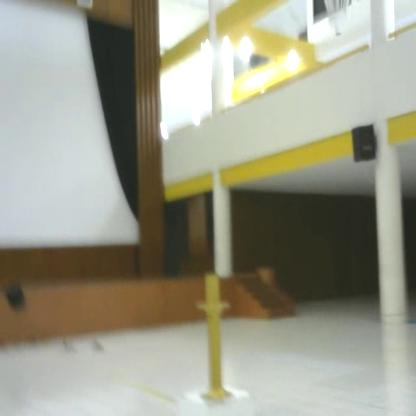pole: (195, 272, 239, 409)
